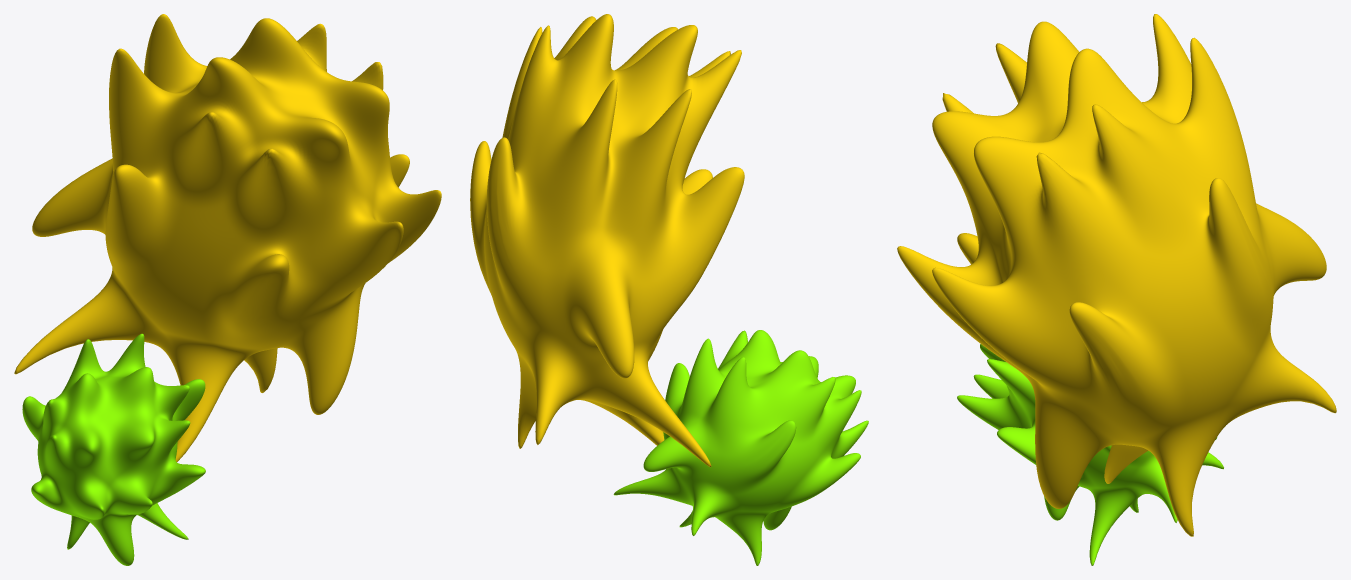
The model's file is xPS_AR5.glb.
The picture shows the model from 3 angles, left to right: view 1: azimuth 30°, elevation 25°; view 2: azimuth 150°, elevation 25°; view 3: azimuth 270°, elevation 25°; orthographic projection. The views are drawn at different scales.
Visible parts, largest first — view 1: Icosphere.012, Icosphere.011; view 2: Icosphere.012, Icosphere.011; view 3: Icosphere.012, Icosphere.011.
Part boxes in pixels (x1,y1,x2,y2): Icosphere.012: [14, 14, 441, 461]; Icosphere.011: [22, 333, 205, 565]; Icosphere.012: [470, 14, 744, 466]; Icosphere.011: [613, 330, 868, 565]; Icosphere.012: [897, 14, 1336, 536]; Icosphere.011: [957, 344, 1223, 565].
Size of what is drawn, in the model's own units: 0.562 by 0.7083 by 0.5053.
